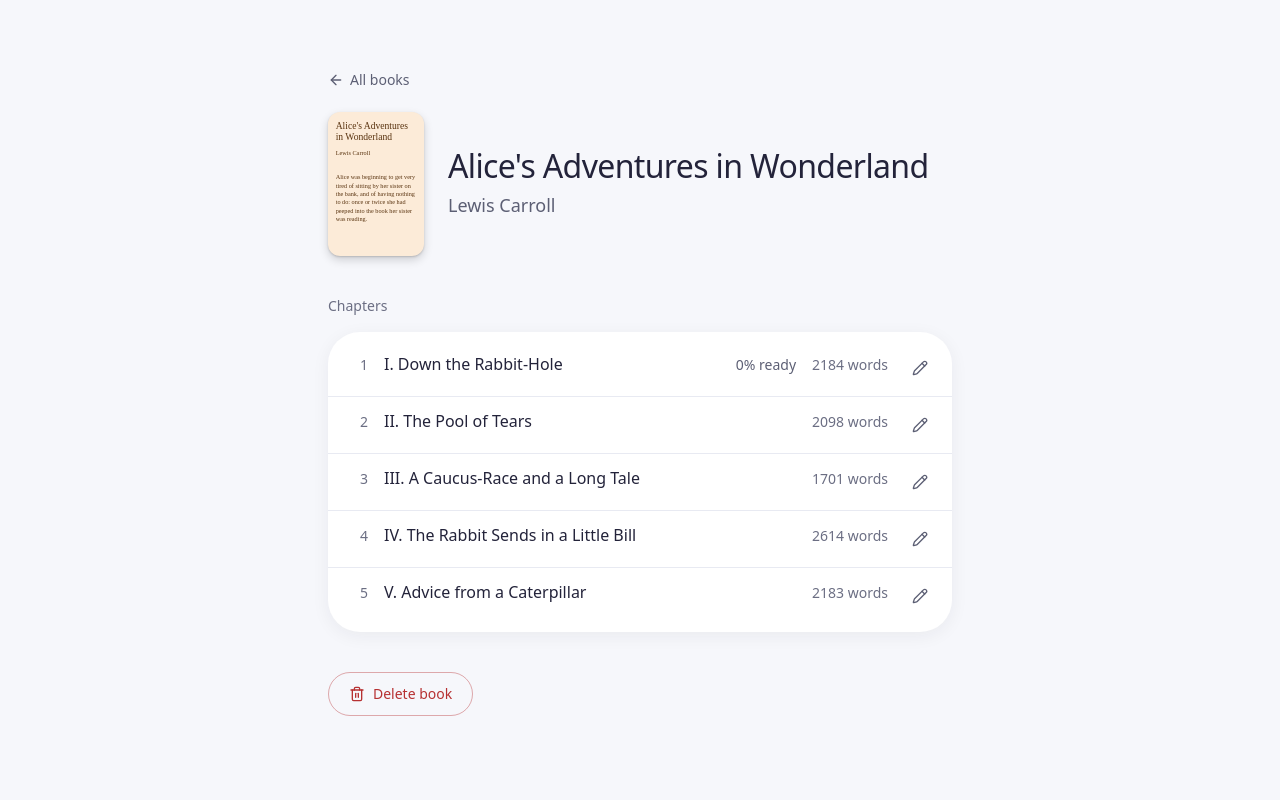
ChapterScreen › an unprepared chapter offers three depths, each with what it means
Click the button "II. The Pool of Tears" at (458, 421), box [384,409,796,433]
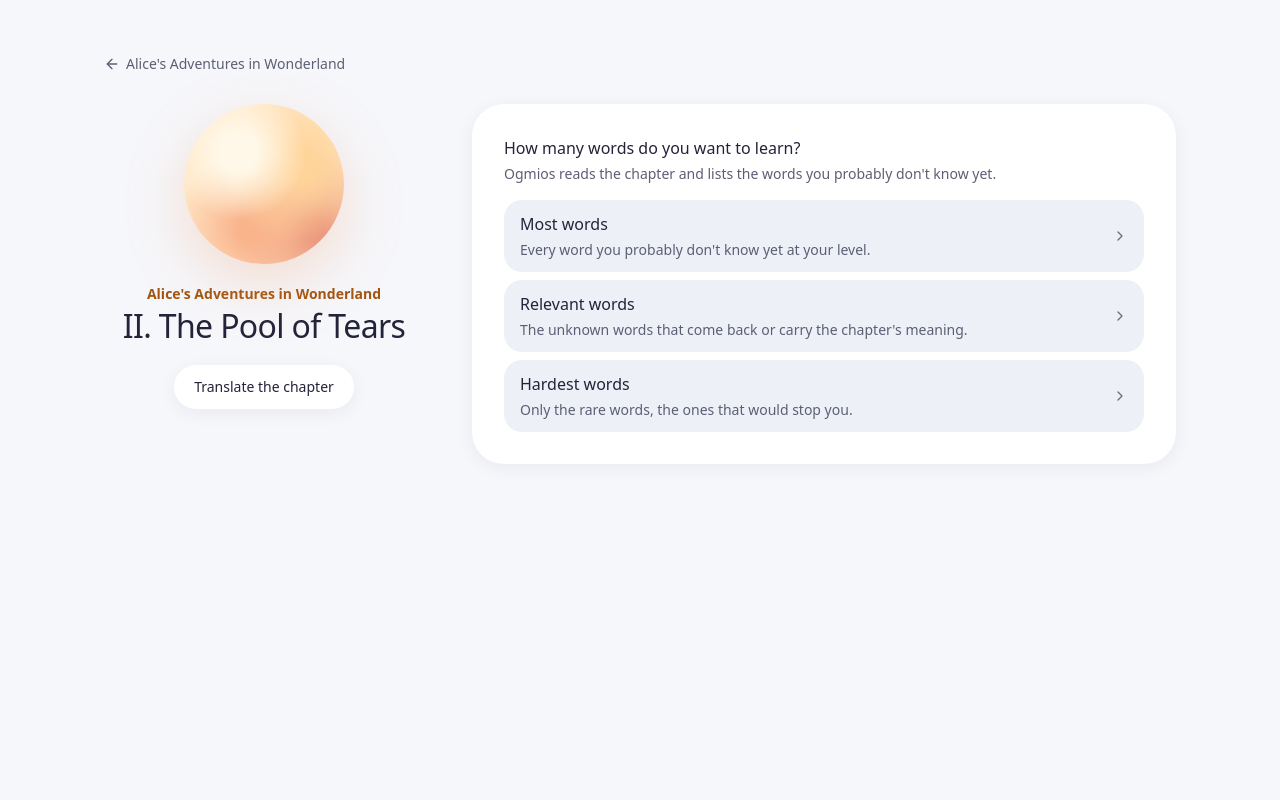
expect the heading "II. The Pool of Tears" is shown: met, box [123,308,405,345]
expect the heading "How many words do you want to learn?" is shown: met, box [504,137,800,159]
expect the list items read "Most wordsEvery word you probably don't know yet at your level.", "Relevant wordsThe unknown words that come back or carry the chapter's meaning.", "Hardest wordsOnly the rare words, the ones that would stop you.", in this order: met, box [504,200,1144,272]; [504,280,1144,352]; [504,360,1144,432]
Click the button "Alice's Adventures in Wonderland" at (225, 64), box [92,48,357,80]
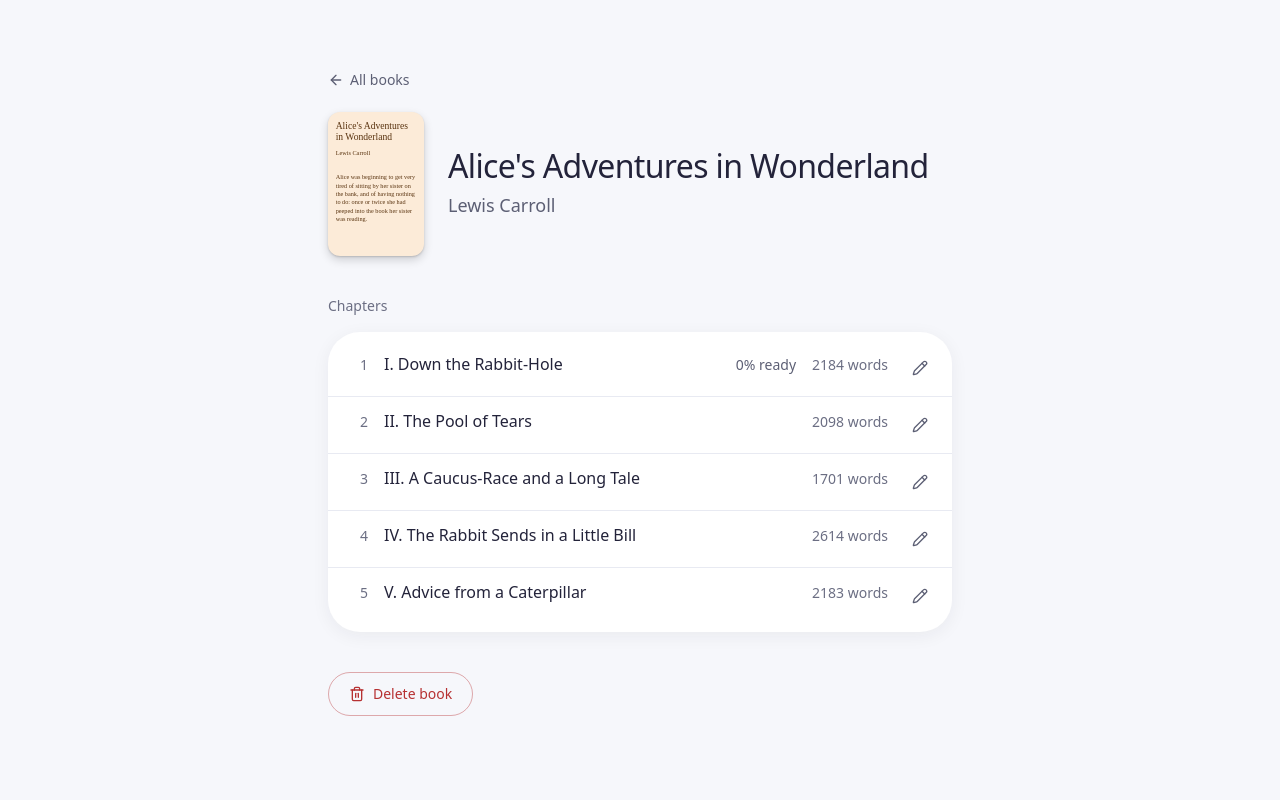
expect the heading "Alice's Adventures in Wonderland" is shown: met, box [448,148,928,184]
